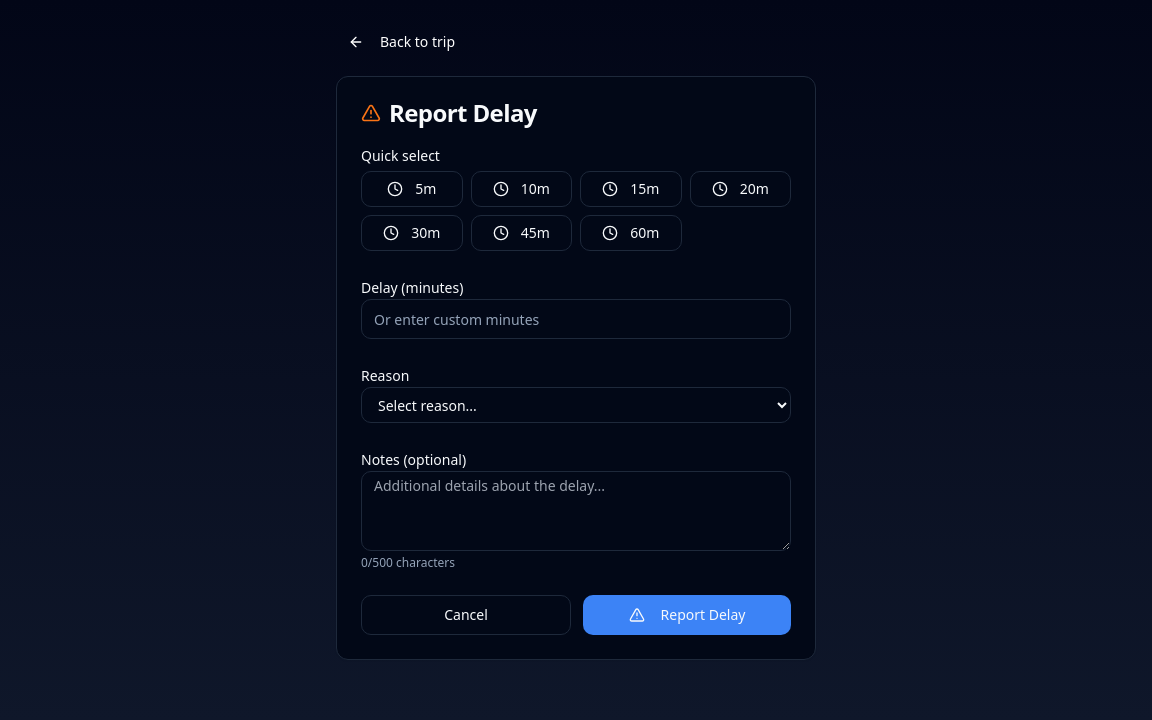
Scenario: DriverDelayPage › preset buttons › selects a preset and fills the minutes input
The image size is (1152, 720).
Click the button "15m" at (631, 189), box [580,171,682,207]
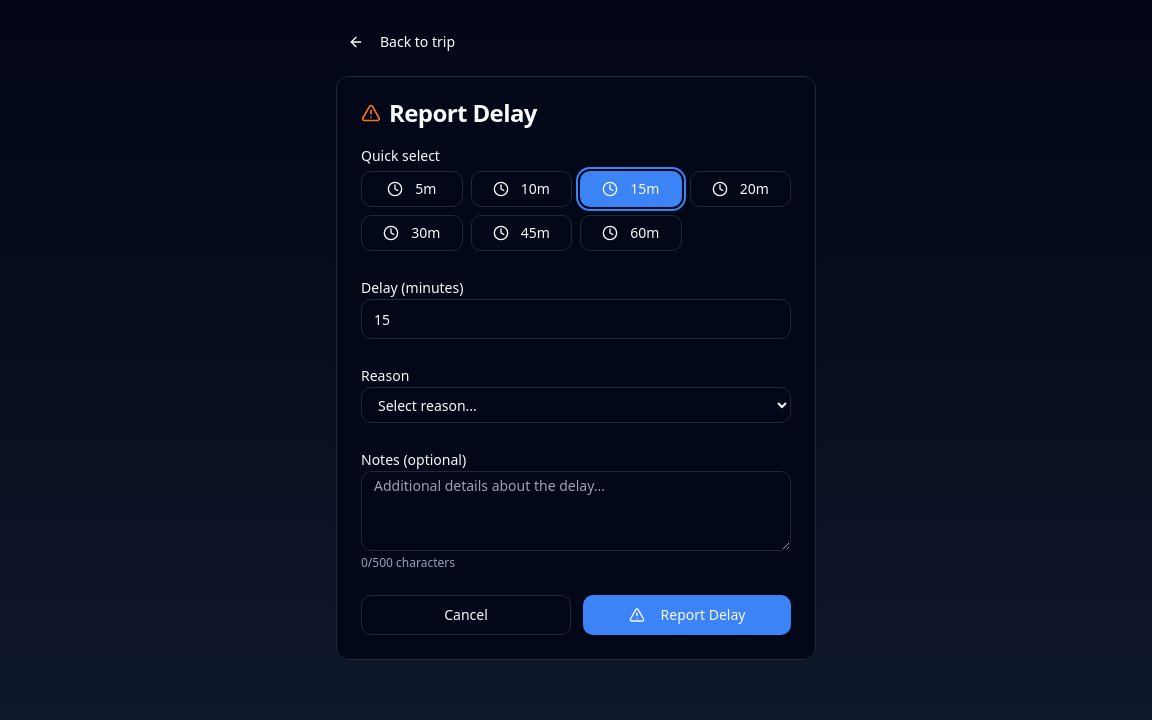
Now the number field labelled "Delay (minutes)" holds "15", box [361,299,791,339]
